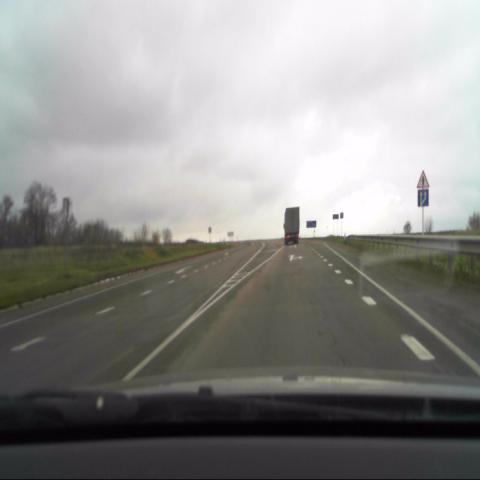2_3: (416, 168, 429, 188)
5_15_3: (418, 190, 428, 208)
